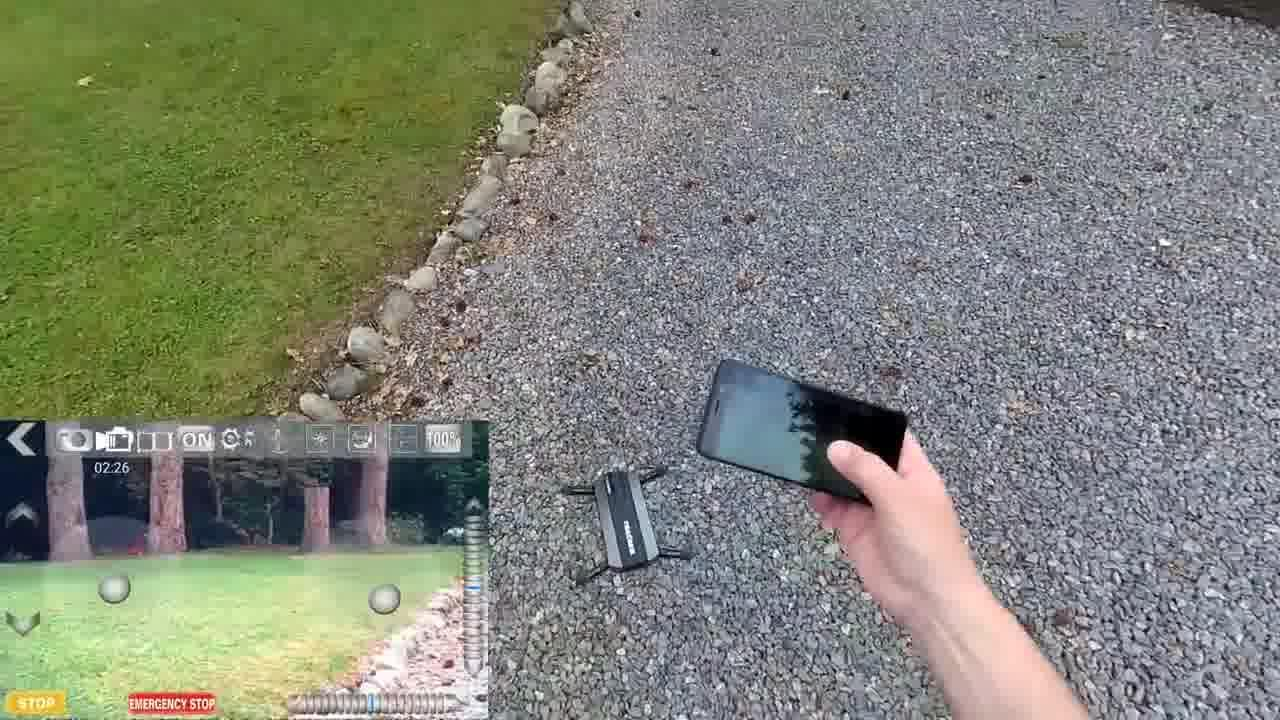drone: (556, 454, 695, 596)
